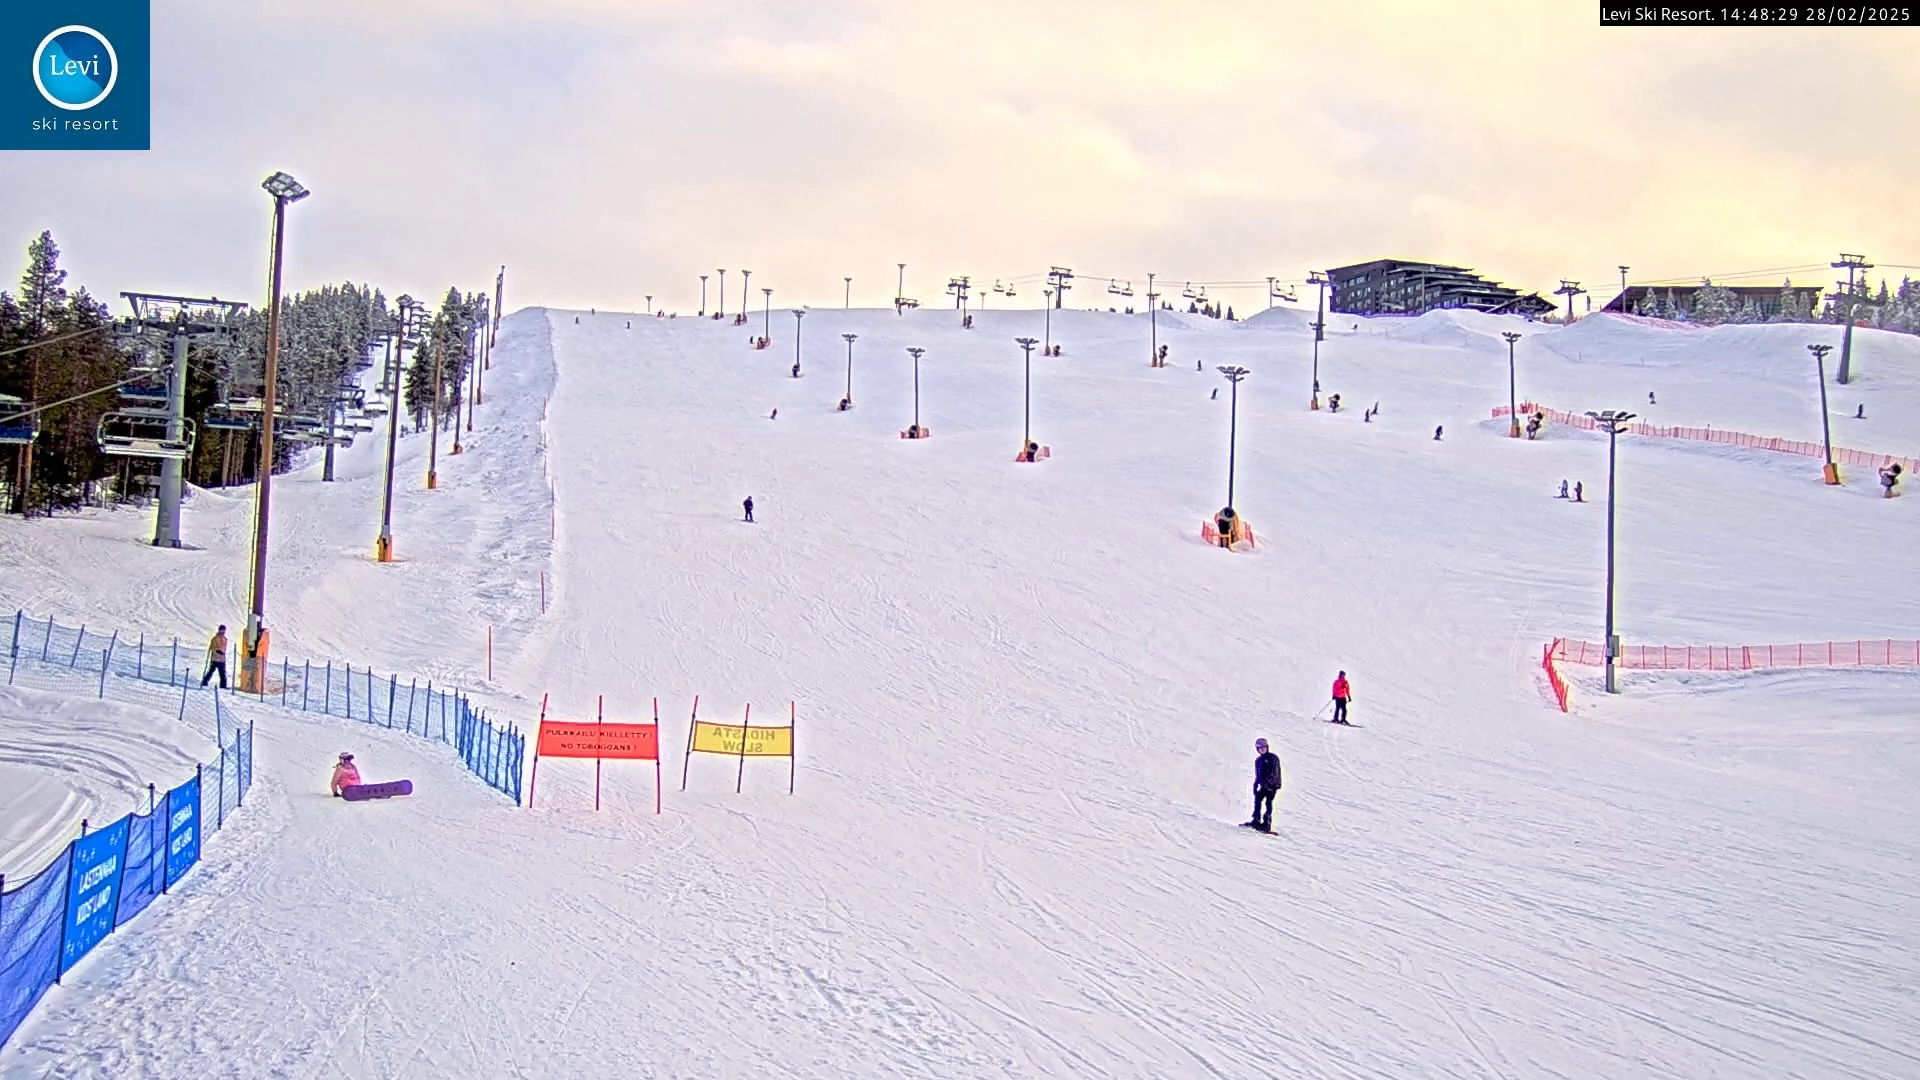skier: (1320, 667, 1362, 727)
snowboarder: (1237, 736, 1282, 836)
